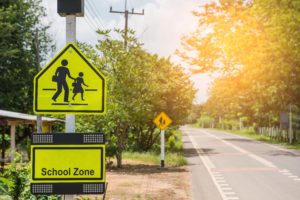slow: (32, 43, 107, 116)
